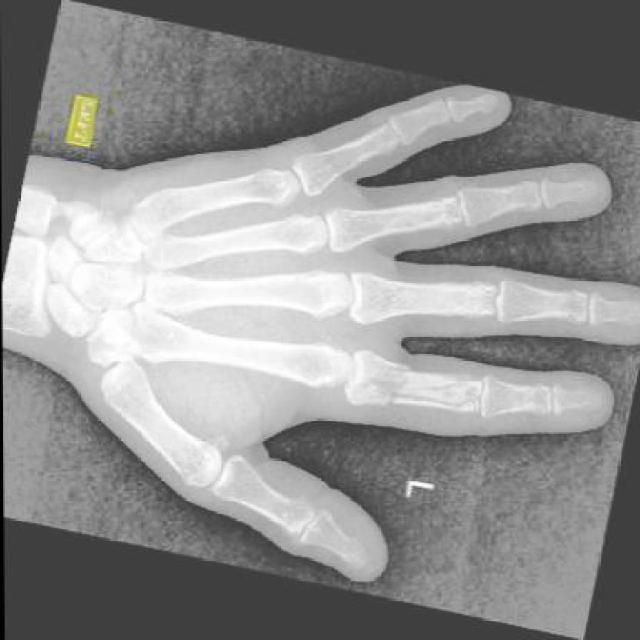Fracture: (340, 342, 425, 430)
